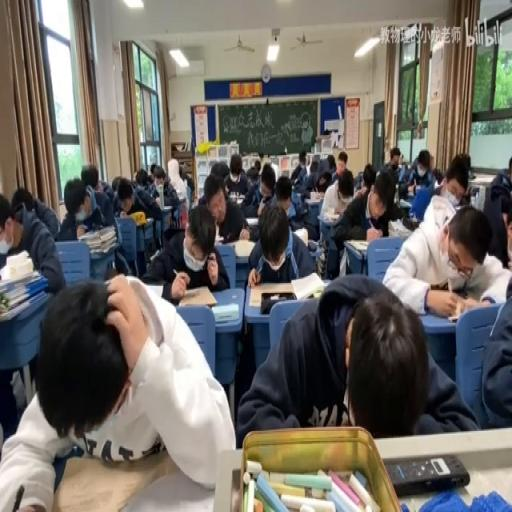calculator: (384, 452, 470, 496), (0, 288, 46, 322), (248, 279, 291, 307), (290, 268, 324, 298), (175, 284, 216, 308), (215, 238, 253, 258), (212, 300, 238, 322), (388, 218, 413, 238), (345, 239, 369, 253), (293, 225, 308, 243), (320, 209, 340, 222), (472, 174, 494, 184), (304, 196, 322, 206), (228, 192, 245, 202), (290, 189, 300, 205), (174, 189, 185, 201), (245, 214, 258, 224), (399, 199, 412, 208), (214, 235, 228, 243), (406, 183, 413, 195), (159, 204, 173, 210), (469, 186, 478, 195), (142, 218, 152, 223)
paper: (2, 274, 230, 510), (236, 269, 474, 441), (381, 196, 509, 316), (149, 202, 228, 300), (56, 174, 123, 280), (2, 189, 63, 296), (246, 196, 316, 283), (474, 276, 512, 429), (330, 168, 377, 254), (143, 162, 181, 228), (300, 156, 334, 212), (402, 148, 436, 196), (224, 152, 249, 198), (426, 194, 456, 228), (488, 172, 510, 216), (382, 145, 404, 181), (181, 168, 195, 216), (288, 151, 307, 186), (80, 162, 99, 192), (0, 199, 11, 232), (338, 175, 352, 200), (362, 162, 374, 189), (501, 209, 510, 245), (246, 158, 260, 180), (103, 262, 120, 280), (458, 151, 470, 176), (134, 166, 148, 186), (118, 192, 132, 210), (260, 152, 270, 172), (432, 166, 443, 184), (461, 188, 472, 205), (354, 170, 363, 190), (153, 174, 165, 188), (110, 176, 120, 192), (326, 154, 335, 170), (318, 180, 328, 194), (178, 162, 186, 179), (338, 155, 347, 169), (508, 155, 512, 178), (98, 179, 107, 189), (150, 162, 156, 176), (310, 160, 316, 174), (398, 150, 403, 164), (298, 158, 305, 166)
person: (308, 239, 318, 250), (291, 178, 298, 186)
